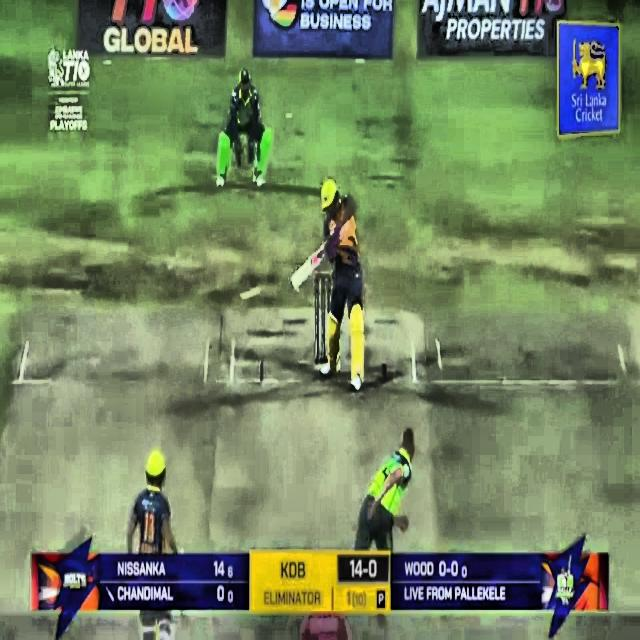Left-stump: (316, 277, 318, 361)
Middle-stump: (322, 277, 324, 360)
